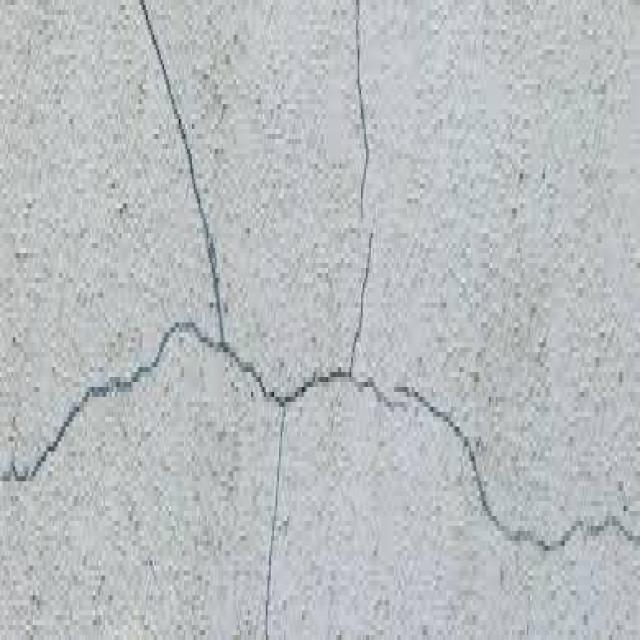Rachadura: (0, 0, 638, 635)
